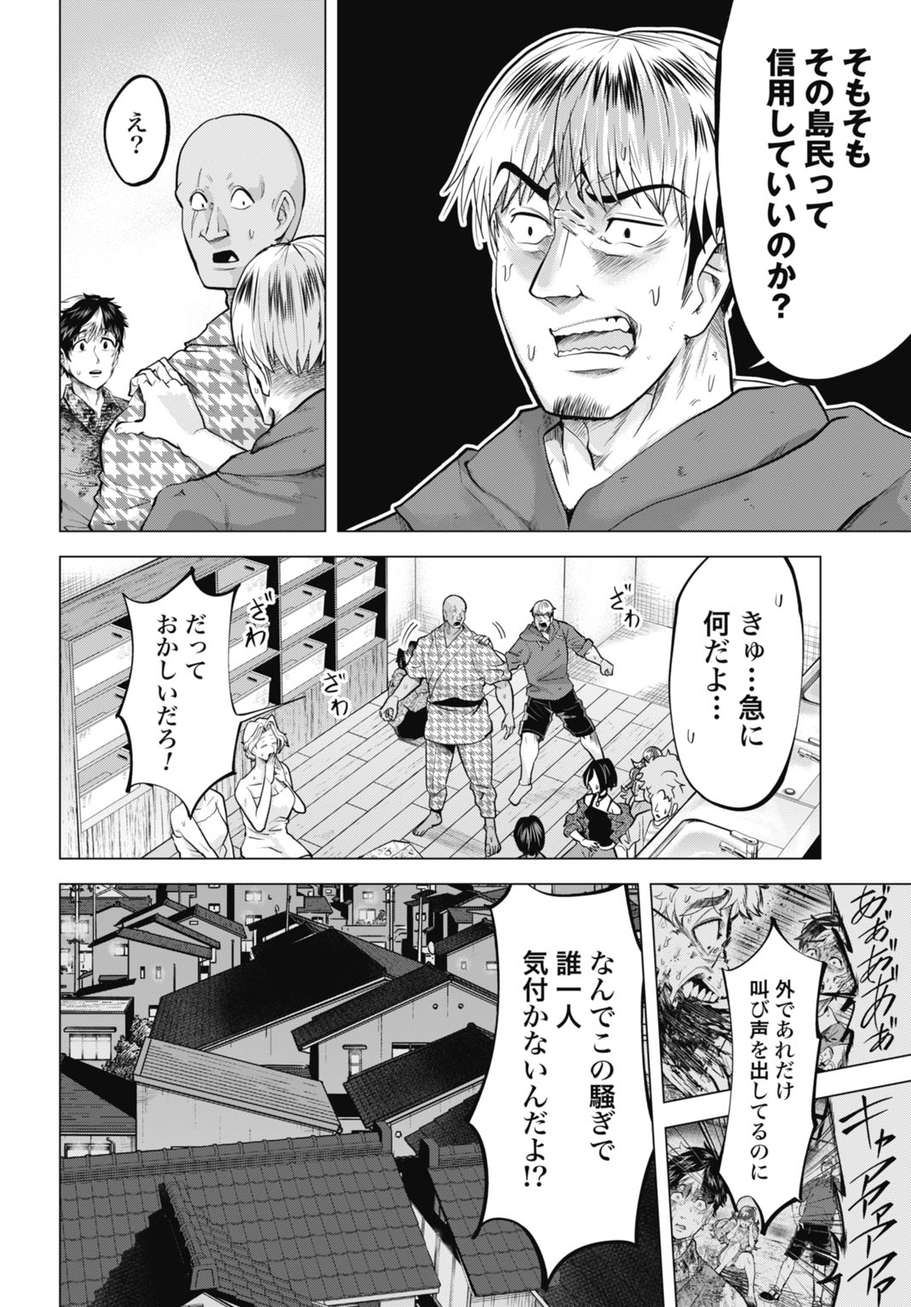bubbles: (460, 886, 656, 1296), (713, 1, 911, 391), (112, 562, 266, 819), (660, 557, 810, 817), (713, 914, 831, 1238), (95, 57, 184, 210)
